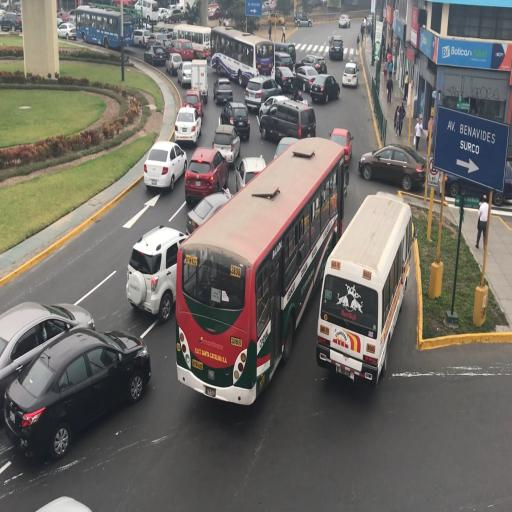auto: (0, 302, 97, 420), (126, 225, 188, 318), (442, 156, 509, 204), (356, 143, 420, 192), (184, 147, 229, 206), (259, 96, 314, 142), (184, 188, 233, 238), (143, 141, 187, 193), (212, 121, 242, 163), (173, 105, 202, 148), (219, 100, 249, 141), (236, 154, 266, 194), (330, 127, 353, 168), (310, 74, 340, 105), (294, 64, 320, 93), (182, 88, 203, 120), (299, 53, 327, 76), (213, 77, 233, 105), (144, 43, 167, 66), (166, 52, 184, 78), (0, 11, 22, 32), (152, 34, 173, 56), (342, 60, 359, 87), (177, 60, 193, 87), (163, 6, 184, 24), (329, 36, 344, 61), (57, 22, 77, 40), (294, 12, 312, 28), (267, 12, 286, 26), (208, 6, 223, 20), (165, 3, 182, 14), (338, 13, 350, 27)
bus: (190, 60, 208, 107)
moto: (318, 192, 410, 385), (214, 27, 272, 88), (77, 4, 133, 50), (170, 23, 211, 62), (134, 0, 160, 24)
